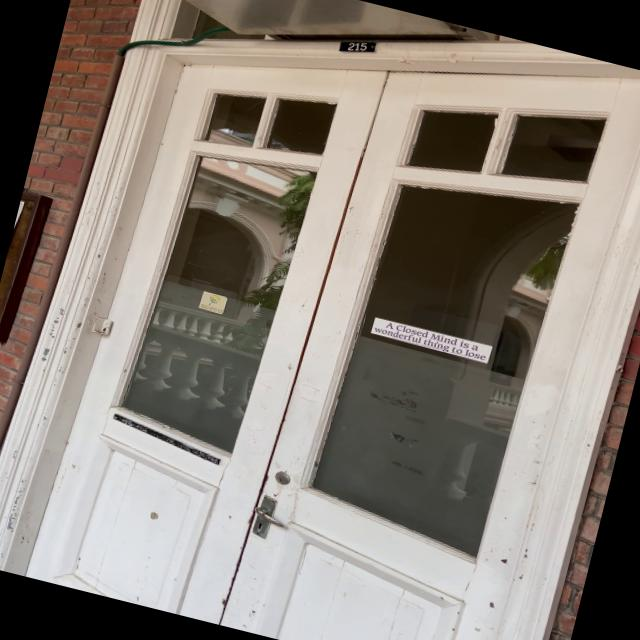room215: (336, 32, 378, 61)
